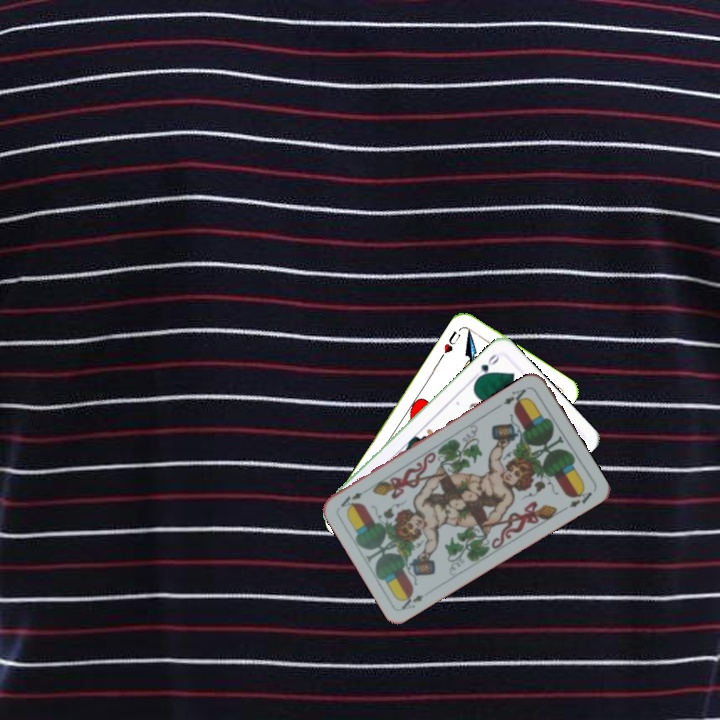EA: (499, 383, 532, 408), (396, 589, 427, 612)
GO: (472, 350, 502, 383)
HU: (437, 326, 463, 361)
